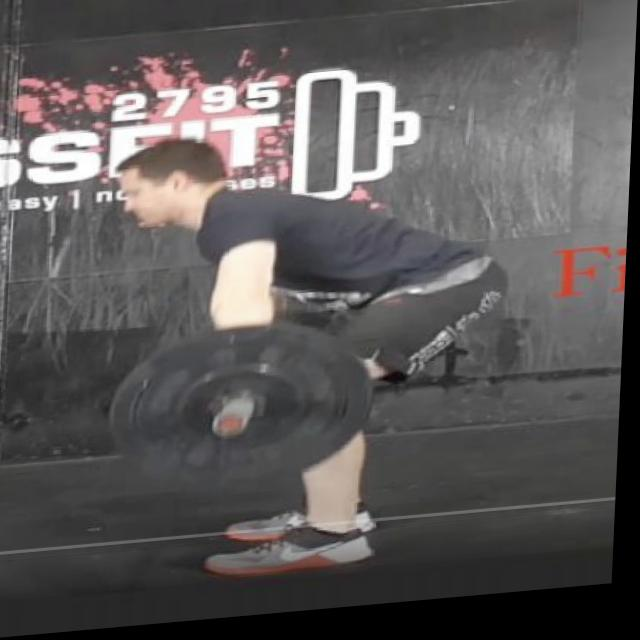barbell: (108, 314, 385, 511)
